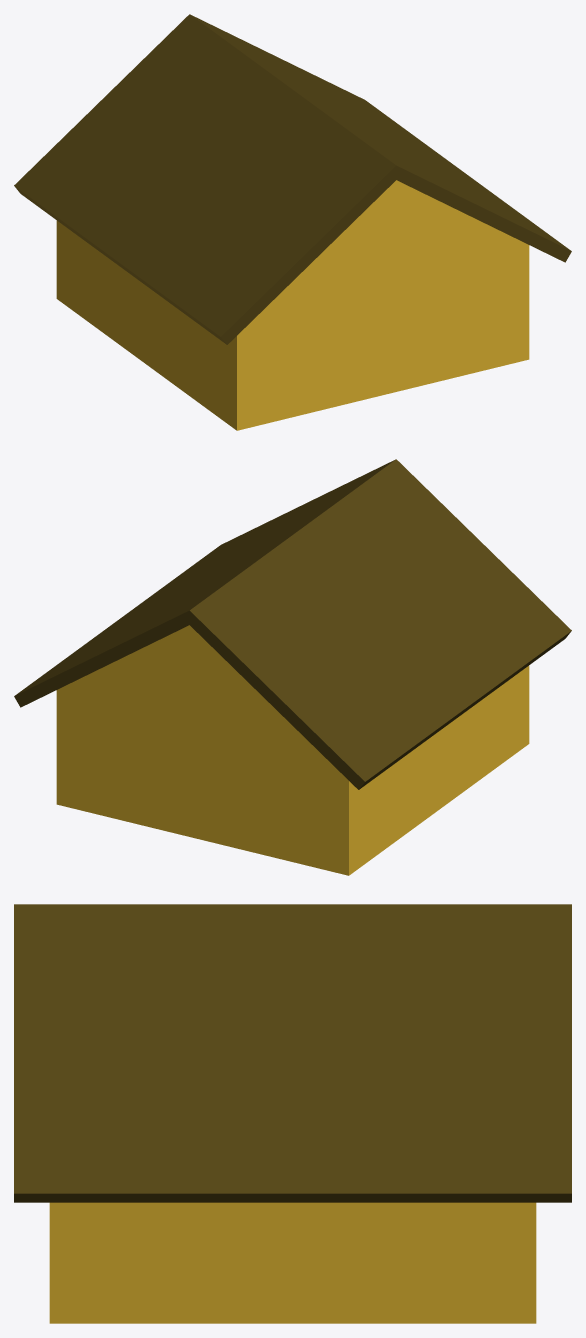
Rendered from result.dae.
The picture shows the model from 3 angles, top to bottom: view 1: azimuth 30°, elevation 25°; view 2: azimuth 150°, elevation 25°; view 3: azimuth 270°, elevation 25°; orthographic projection. The views are drawn at different scales.
Parts seen in each view (by area): view 1: e2cbeab8-190e-434c-ab45-d95458d49103__undefined (×5), eee406df-541b-434e-b50d-dfcdab9ba00c__undefined (×2); view 2: e2cbeab8-190e-434c-ab45-d95458d49103__undefined (×5), eee406df-541b-434e-b50d-dfcdab9ba00c__undefined (×2); view 3: e2cbeab8-190e-434c-ab45-d95458d49103__undefined (×2), eee406df-541b-434e-b50d-dfcdab9ba00c__undefined.
Boxes of the visible parts, x1,y1,x2,y2 form: e2cbeab8-190e-434c-ab45-d95458d49103__undefined (×5): (14,14,571,344); eee406df-541b-434e-b50d-dfcdab9ba00c__undefined (×2): (56,180,529,430); e2cbeab8-190e-434c-ab45-d95458d49103__undefined (×5): (14,459,571,789); eee406df-541b-434e-b50d-dfcdab9ba00c__undefined (×2): (56,625,529,875); e2cbeab8-190e-434c-ab45-d95458d49103__undefined (×2): (14,904,571,1202); eee406df-541b-434e-b50d-dfcdab9ba00c__undefined: (49,1202,536,1323).
Bounding box in the file's own units: 768 × 500 × 783.
